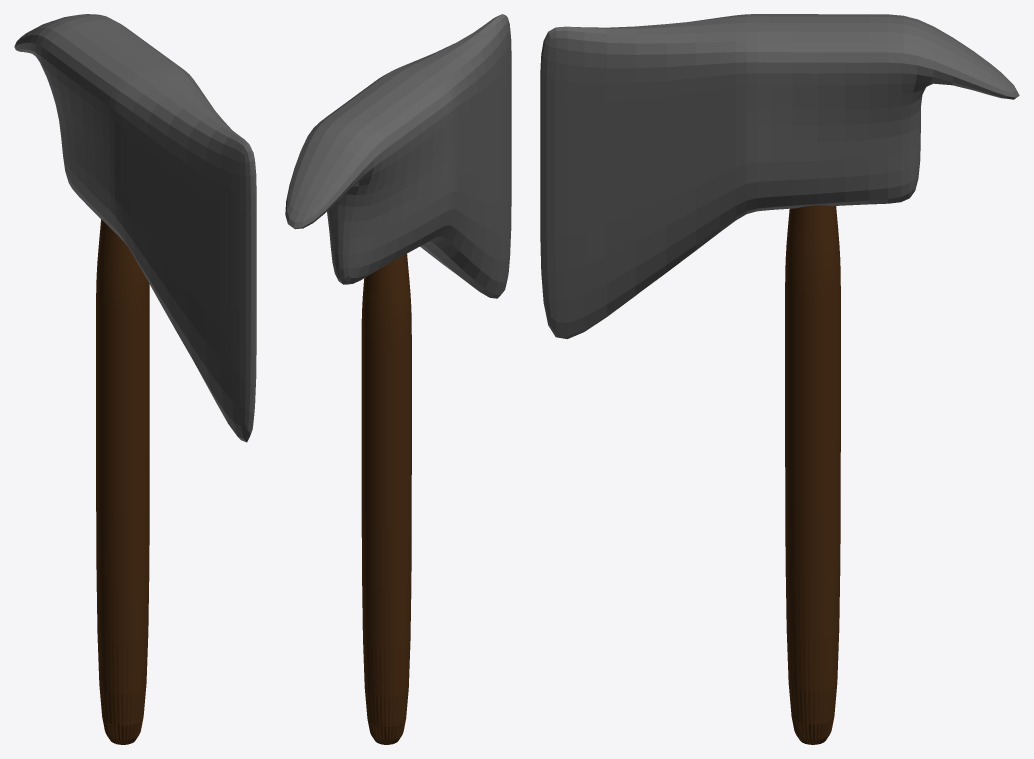
File: axe.fbx
3 views of the same model, side by side, from view 1: azimuth 30°, elevation 25°; view 2: azimuth 150°, elevation 25°; view 3: azimuth 270°, elevation 25° (orthographic). The views are drawn at different scales.
Visible parts, largest first — view 1: Cube; view 2: Cube; view 3: Cube.
Boxes of the visible parts, x1,y1,x2,y2 form: Cube: [14, 14, 256, 744]; Cube: [285, 14, 511, 744]; Cube: [540, 14, 1019, 744].
Bounding box in the file's own units: 103 × 835 × 505.
